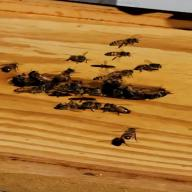Bee: (107, 121, 150, 144), (102, 33, 150, 49), (58, 50, 95, 67), (98, 102, 138, 117), (96, 50, 149, 60), (130, 62, 166, 75), (0, 58, 27, 74)
